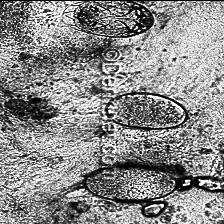Toxin: (118, 88, 190, 134), (9, 88, 59, 124)
